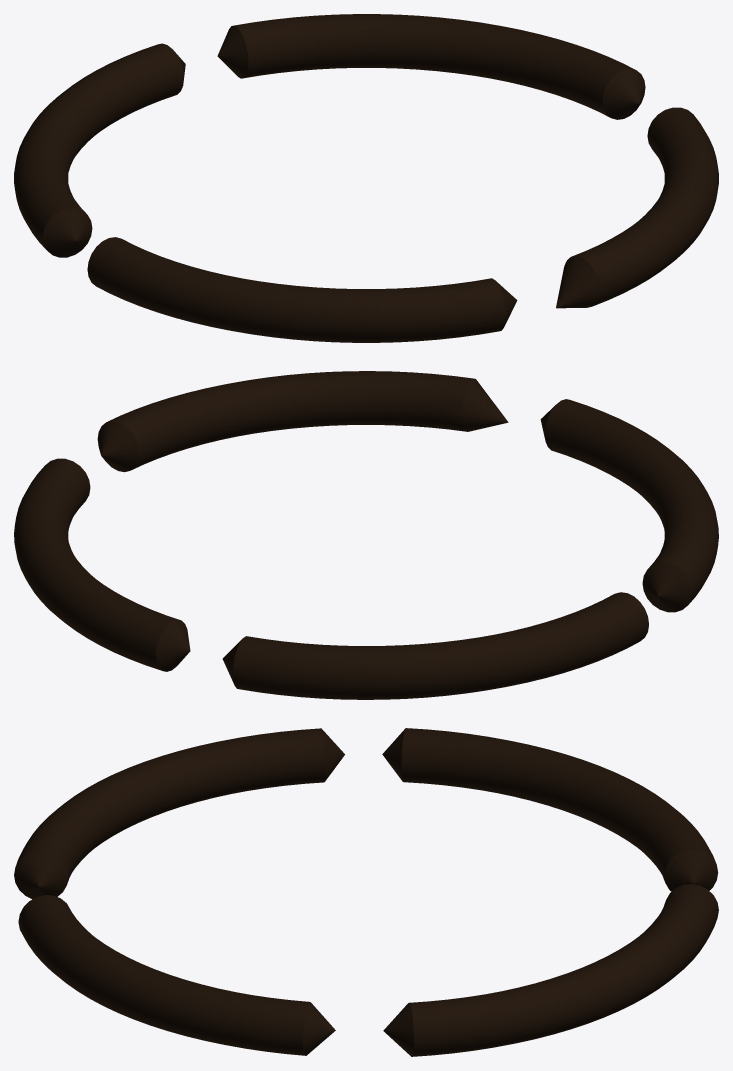
File: RingSix.gltf
3 renders of one model, top to bottom at view 1: azimuth 30°, elevation 25°; view 2: azimuth 150°, elevation 25°; view 3: azimuth 270°, elevation 25°, orthographic.
Visible parts, largest first — view 1: Object 5; view 2: Object 5; view 3: Object 5.
Boxes of the visible parts, <box> form: Object 5: <box>14,14,718,342</box>; Object 5: <box>14,371,718,699</box>; Object 5: <box>14,728,718,1056</box>.
Size of the model in its own units: 0.0645 by 0.005 by 0.0646.
1 material, 1 textured.
